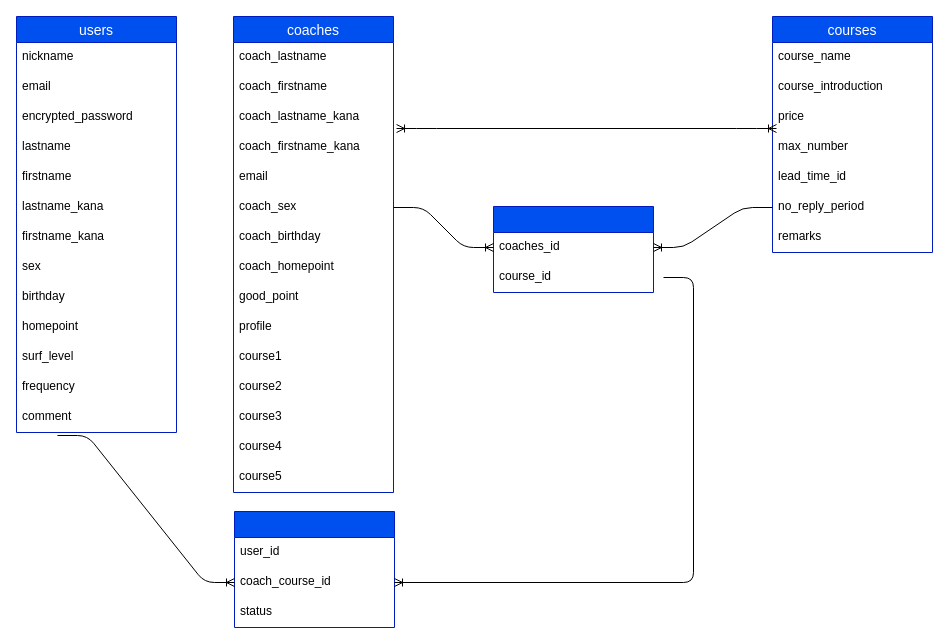
Image size: 949x644. Some labels were removed from this diagram. The shapes that lost their labels are listed below. From the top down, each one's box as (x1, y1, x2, y2) in pixels, then its label:
(492, 206, 654, 292): coach_course
(234, 510, 394, 628): orders
